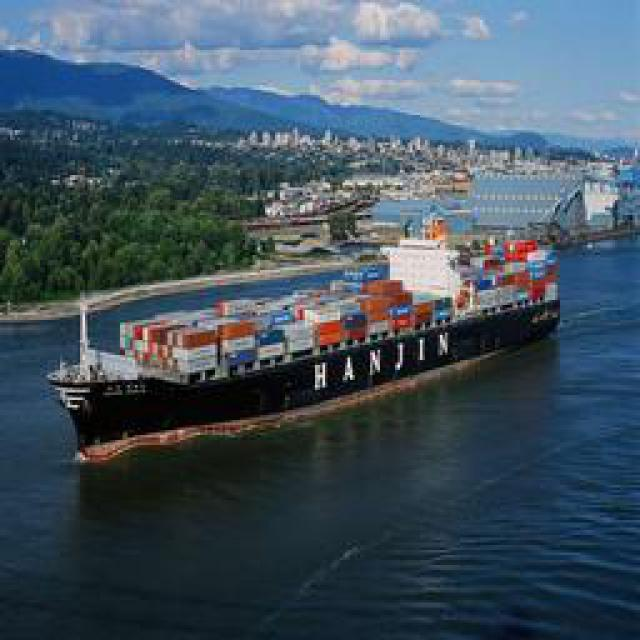Ship: (55, 181, 563, 441)
